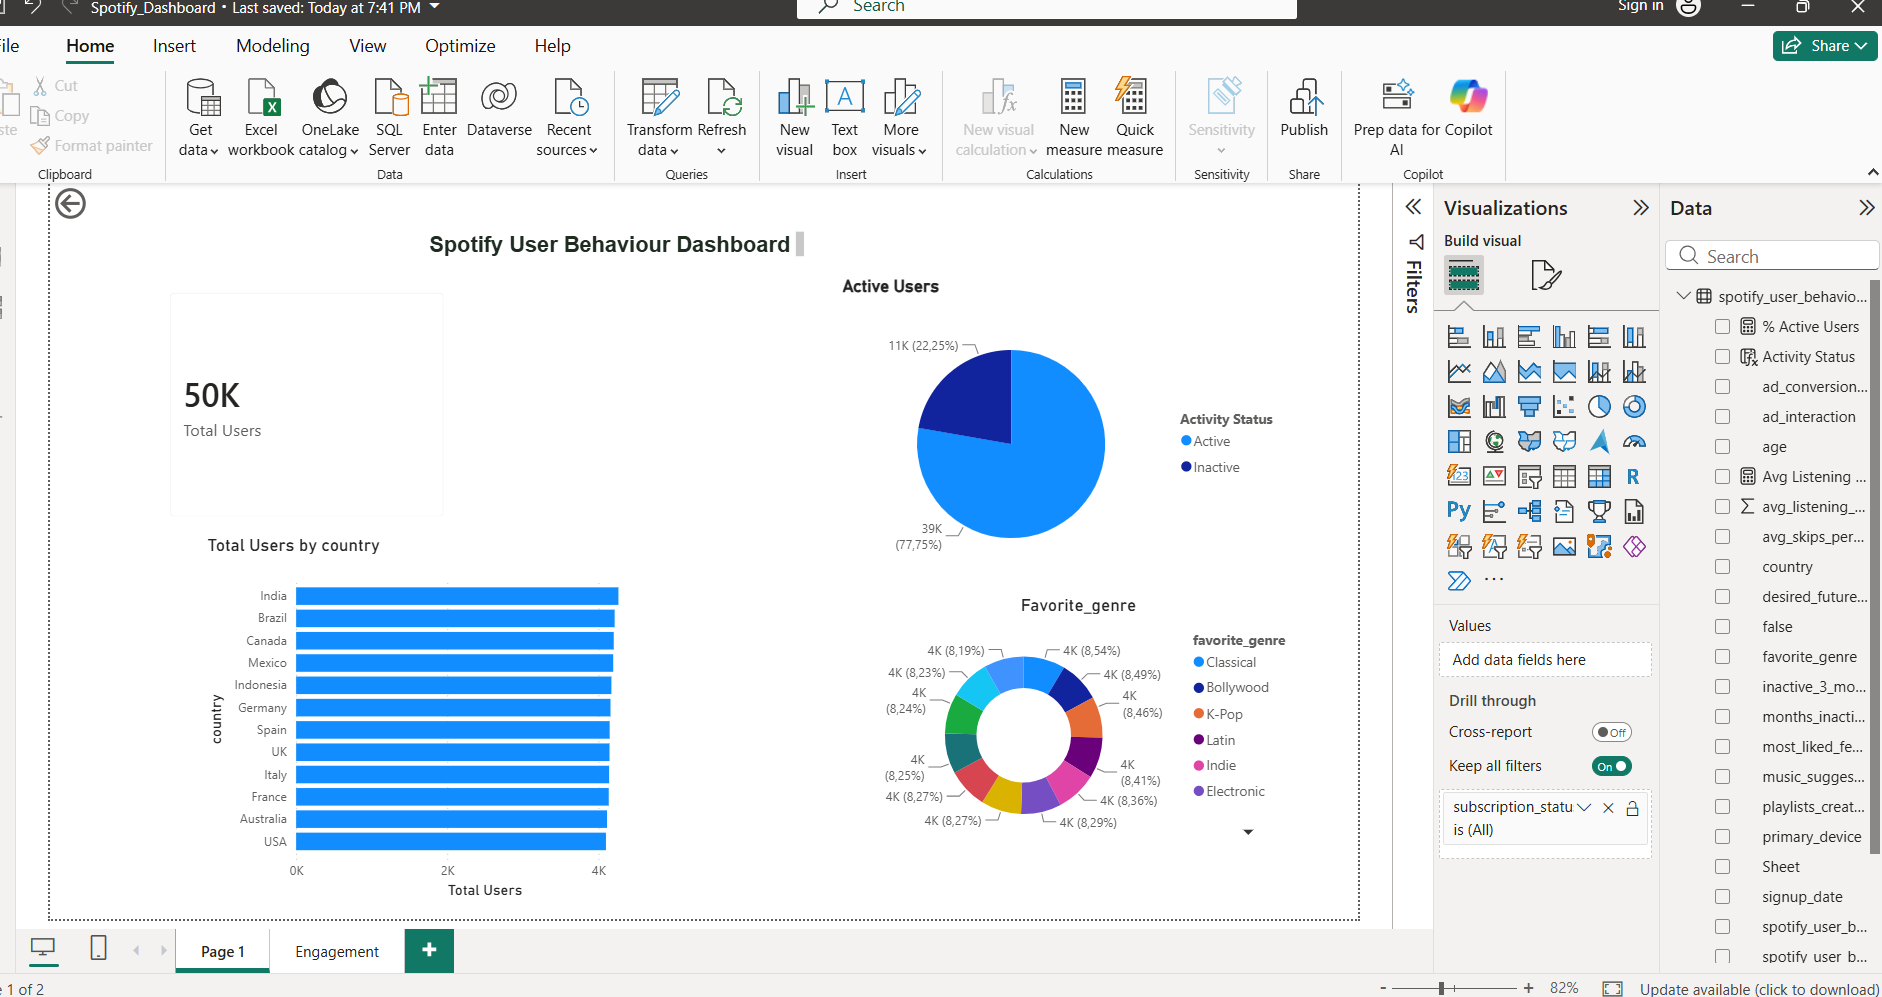

Layout of this report page (visuals, bound fields, positions):
{"tool":"powerbi","page":{"name":"Page 1","canvas":[1280,720],"ordinal":0},"visuals":[{"type":"clusteredBarChart","fields":{"Category":["spotify_user_behavior_realistic.country"],"Y":["spotify_user_behavior_realistic.Total Users"]},"box":[149.6,343.1,473.4,360.9],"z":0},{"type":"donutChart","title":" Favorite_genre","fields":{"Category":["spotify_user_behavior_realistic.favorite_genre"],"Y":["spotify_user_behavior_realistic.Total Users"]},"box":[782.2,402.1,447.3,245.6],"z":1000},{"type":"textbox","box":[0,570,150,150],"z":2000},{"type":"textbox","box":[365.6,42.8,376.6,34.2],"z":3000},{"type":"cardVisual","fields":{"Data":["spotify_user_behavior_realistic.Total Users"]},"box":[100.3,90.5,302,253.1],"z":5000},{"type":"actionButton","box":[0,0,100,40],"z":6000},{"type":"textbox","box":[0,343,150,227],"z":7000},{"type":"textbox","box":[633,343,150,361],"z":8000},{"type":"textbox","box":[632.6,76.8,6.9,26.1],"z":9000},{"type":"pieChart","title":"Active Users","fields":{"Category":["spotify_user_behavior_realistic.Activity Status"],"Y":["spotify_user_behavior_realistic.Total Users"]},"box":[770.4,90.5,445.1,299.6],"z":10000}]}

Visuals, with their boxes on the page's 1280x720 design canvas (x1, y1, x2, y2). These are canvas units, not pixel positions in the 1882x997 screenshot, which may show the page scaled, cropped or inside an application window:
clusteredBarChart - spotify_user_behavior_realistic.country x spotify_user_behavior_realistic.Total Users: l=150, t=343, r=623, b=704
" Favorite_genre" donutChart: l=782, t=402, r=1230, b=648
textbox: l=0, t=570, r=150, b=720
textbox: l=366, t=43, r=742, b=77
cardVisual - spotify_user_behavior_realistic.Total Users: l=100, t=90, r=402, b=344
actionButton: l=0, t=0, r=100, b=40
textbox: l=0, t=343, r=150, b=570
textbox: l=633, t=343, r=783, b=704
textbox: l=633, t=77, r=640, b=103
"Active Users" pieChart: l=770, t=90, r=1216, b=390
